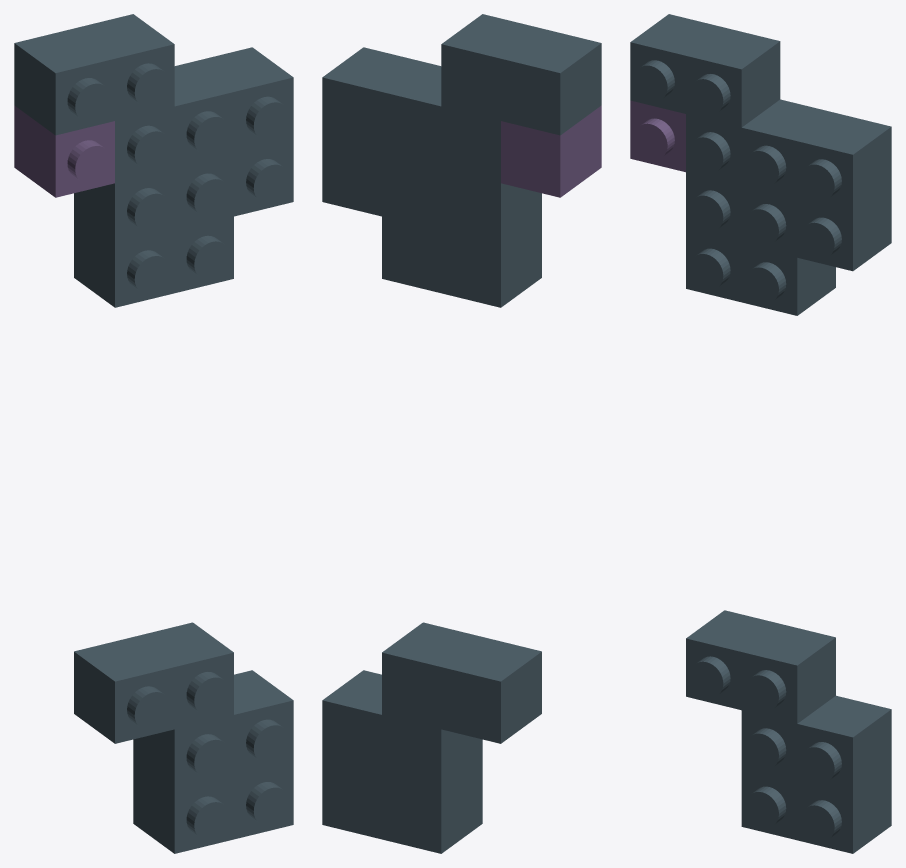
File: current.glb
3 renders of one model, left to right at view 1: azimuth 30°, elevation 25°; view 2: azimuth 150°, elevation 25°; view 3: azimuth 330°, elevation 25°, orthographic. The views are drawn at different scales.
Visible parts, largest first — view 1: world; view 2: world; view 3: world.
Boxes of the visible parts, x1,y1,x2,y2 form: world: (14, 14, 293, 853); world: (322, 14, 601, 853); world: (630, 14, 891, 853).
Bounding box in the file's own units: 32 × 104 × 11.4.
